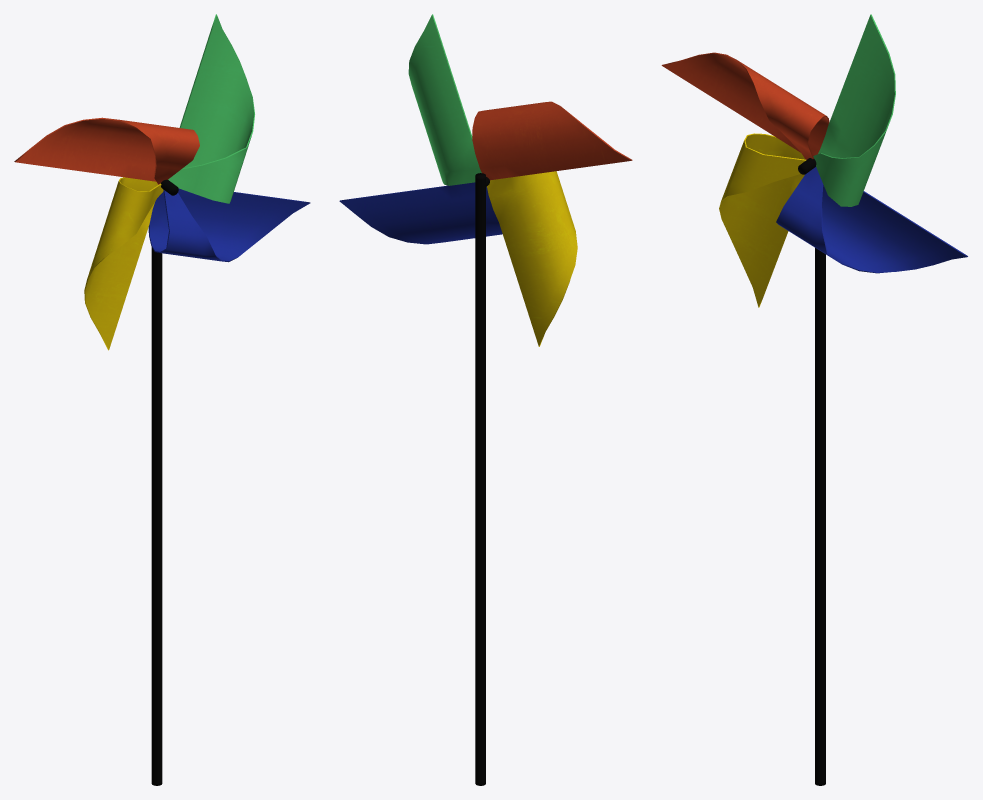
3 renders of one model, left to right at view 1: azimuth 30°, elevation 25°; view 2: azimuth 150°, elevation 25°; view 3: azimuth 330°, elevation 25°, orthographic. The views are drawn at different scales.
Visible parts, largest first — view 1: Pinwheel, PinwheelPole; view 2: Pinwheel, PinwheelPole; view 3: Pinwheel, PinwheelPole.
Part boxes in pixels (x1,y1,x2,y2): Pinwheel: (14,14,310,350); PinwheelPole: (151,179,178,785); Pinwheel: (339,14,632,346); PinwheelPole: (475,173,489,785); Pinwheel: (661,14,967,307); PinwheelPole: (798,158,825,785).
Size of the model in its own units: 0.2219 by 0.5449 by 0.0378.
2 materials, 2 textured.
